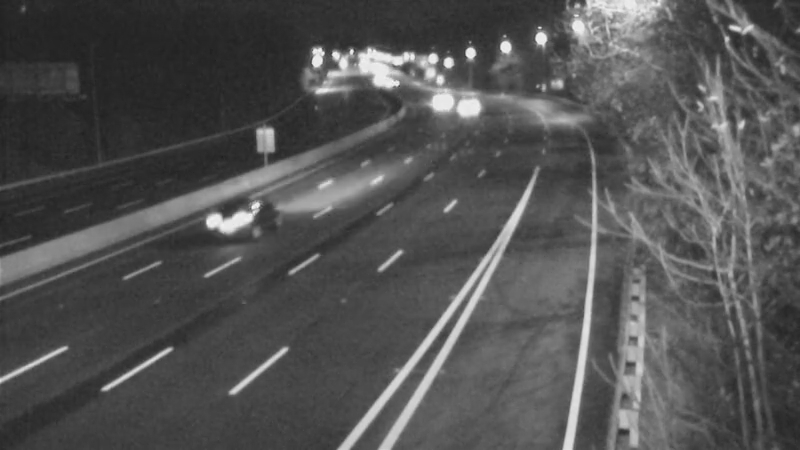vehicle: (196, 178, 276, 258), (410, 75, 460, 125), (444, 82, 494, 132)
